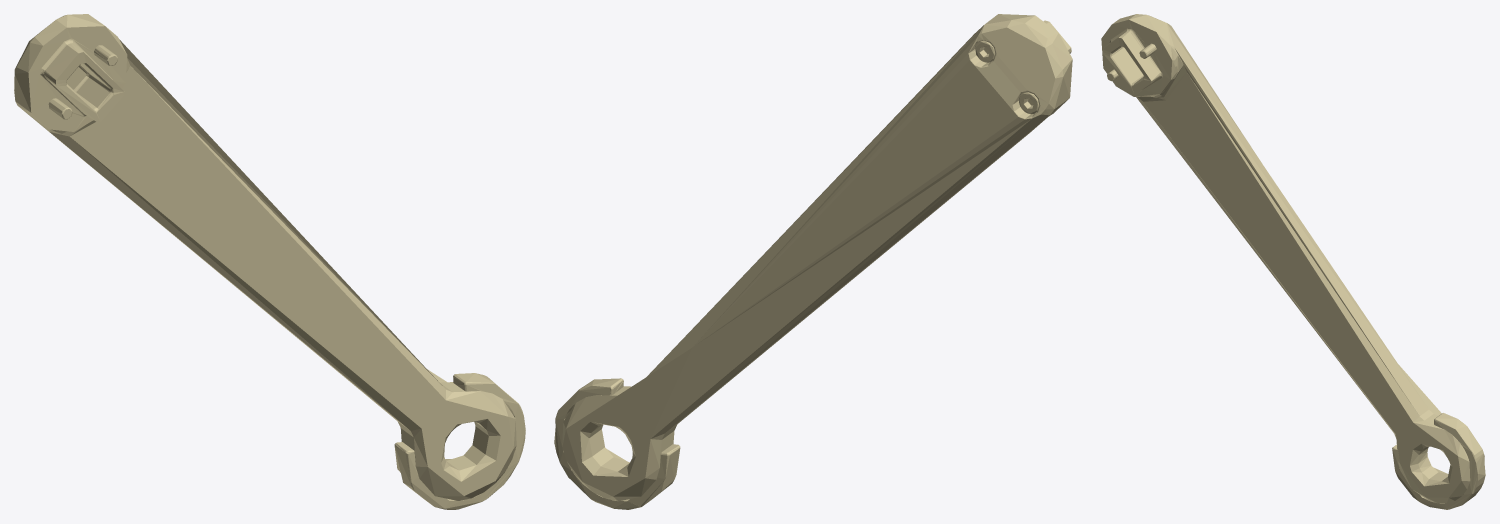
File: LowerLegD.dae
The picture shows the model from 3 angles, left to right: view 1: azimuth 30°, elevation 25°; view 2: azimuth 150°, elevation 25°; view 3: azimuth 330°, elevation 25°; orthographic projection. The views are drawn at different scales.
Parts seen in each view (by area): view 1: visual_Lower_Leg_D; view 2: visual_Lower_Leg_D; view 3: visual_Lower_Leg_D.
Part boxes in pixels (bbox=[...]): visual_Lower_Leg_D: bbox=[14, 14, 525, 509]; visual_Lower_Leg_D: bbox=[554, 14, 1072, 509]; visual_Lower_Leg_D: bbox=[1101, 14, 1485, 509].
Size of the model in its own units: 0.1353 by 0.02 by 0.1491.
